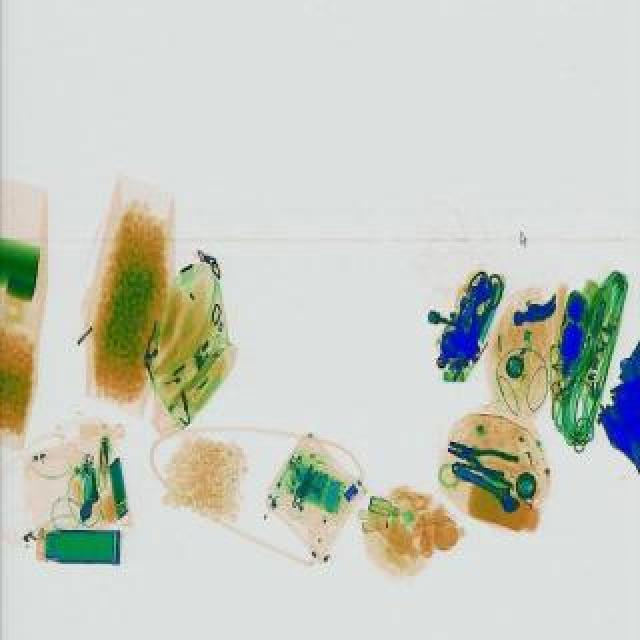scissors: (444, 452, 526, 516)
wrench: (444, 434, 520, 482)
